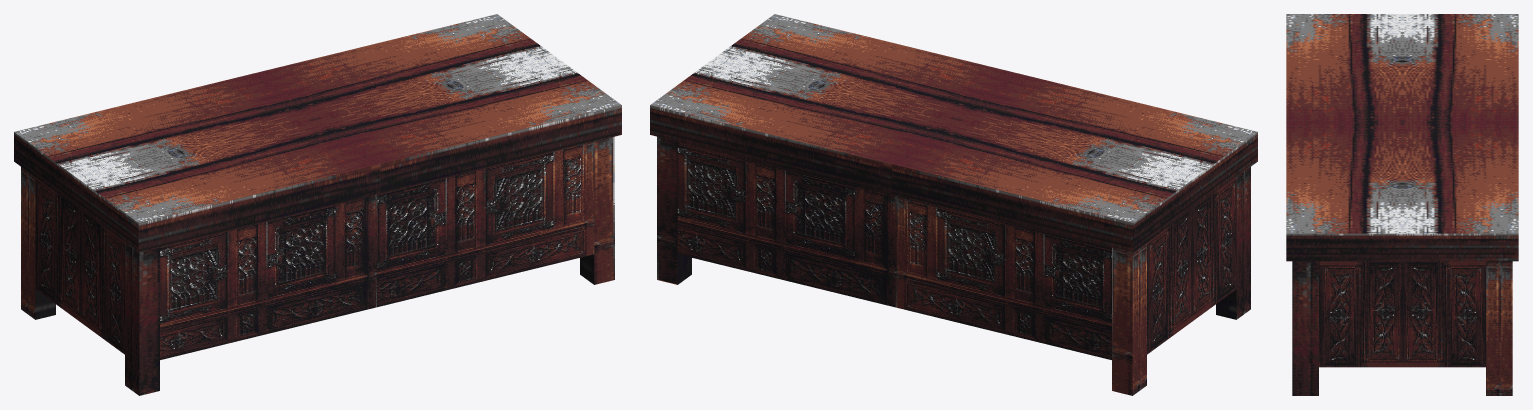
Rendered from cabinet_style_1.fbx.
The picture shows the model from 3 angles, left to right: view 1: azimuth 30°, elevation 25°; view 2: azimuth 150°, elevation 25°; view 3: azimuth 270°, elevation 25°; orthographic projection. The views are drawn at different scales.
Visible parts, largest first — view 1: cabinet; view 2: cabinet; view 3: cabinet.
Boxes of the visible parts, <box> form: cabinet: <box>14,14,621,395</box>; cabinet: <box>650,14,1257,395</box>; cabinet: <box>1286,14,1518,395</box>.
Size of the model in its own units: 479 by 167 by 214.
